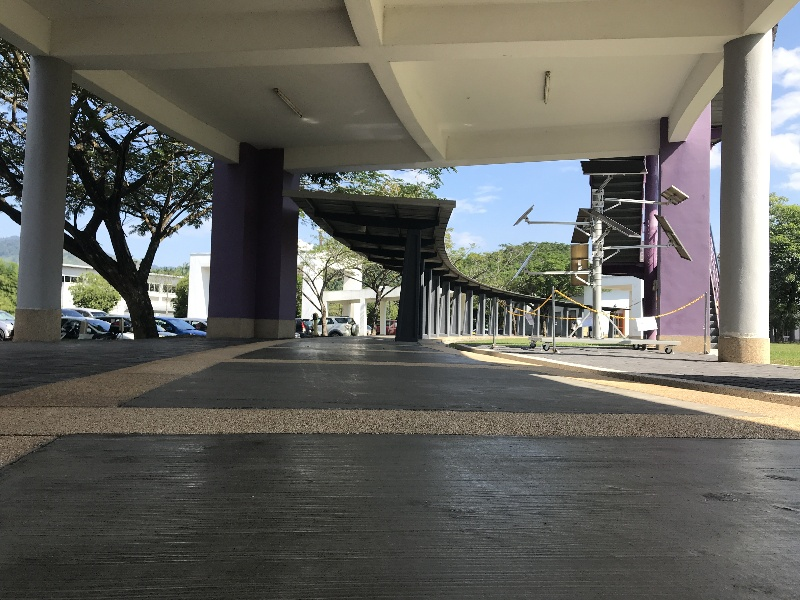Block D Pillar 5: (4, 6, 800, 551)
pillar: (705, 28, 784, 368), (205, 126, 312, 351), (11, 28, 70, 349), (648, 110, 717, 360), (385, 221, 434, 358)
